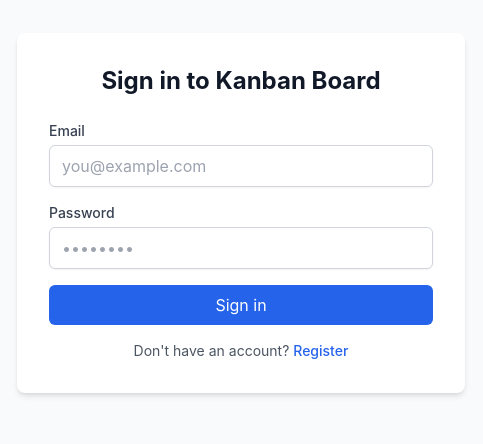
Scenario: LoginPage › should display a generic error when no detail is returned
The width and height of the screenshot is (483, 444).
Type "test@example.com" into the field labelled "Email". click: (241, 166)
box: x1=49 y1=145 x2=433 y2=187
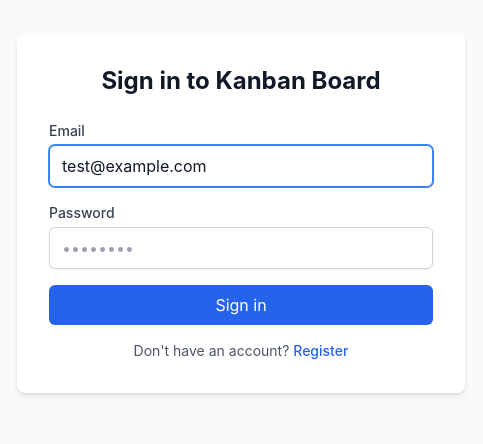
Type "password123" into the password field labelled "Password". click: (241, 248)
box: x1=49 y1=227 x2=433 y2=269
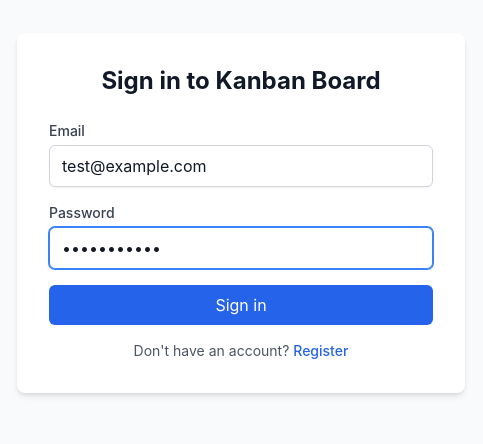
Click the button "Sign in". click: (241, 305)
box: x1=49 y1=285 x2=433 y2=325
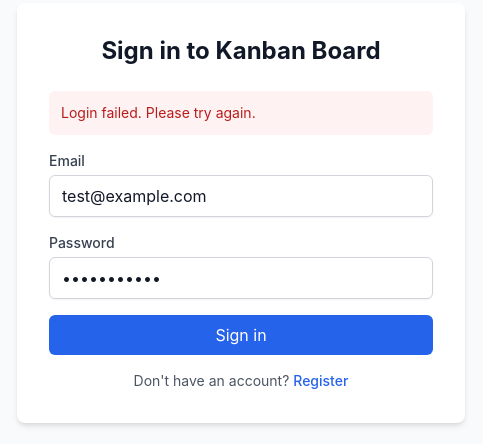
Expected: the message reads "Login failed. Please try again.", x1=61 y1=104 x2=256 y2=121
